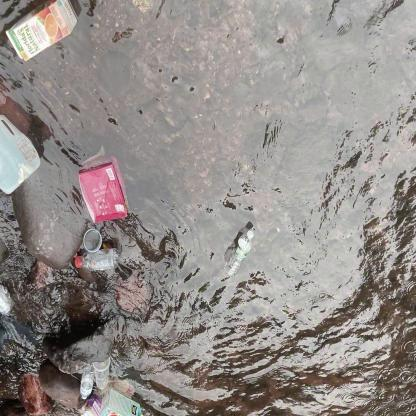Plastic: (0, 115, 44, 203), (219, 220, 261, 282), (71, 229, 122, 276), (76, 358, 114, 403), (0, 282, 15, 318)
